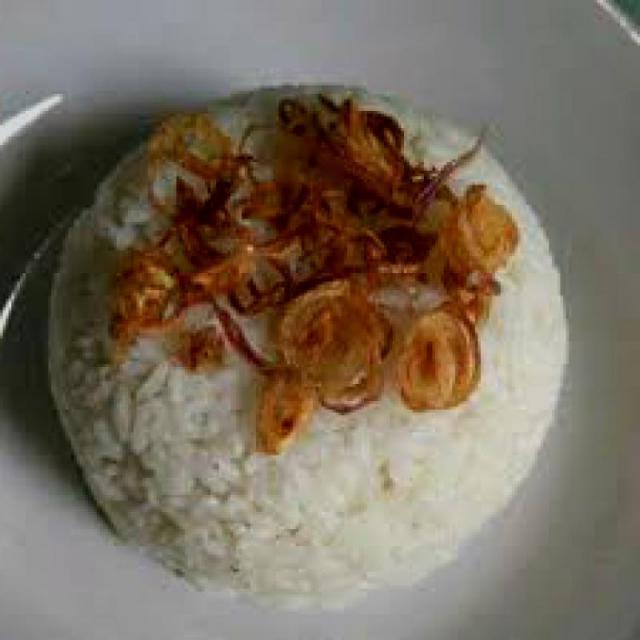Rice: (46, 82, 568, 608)
